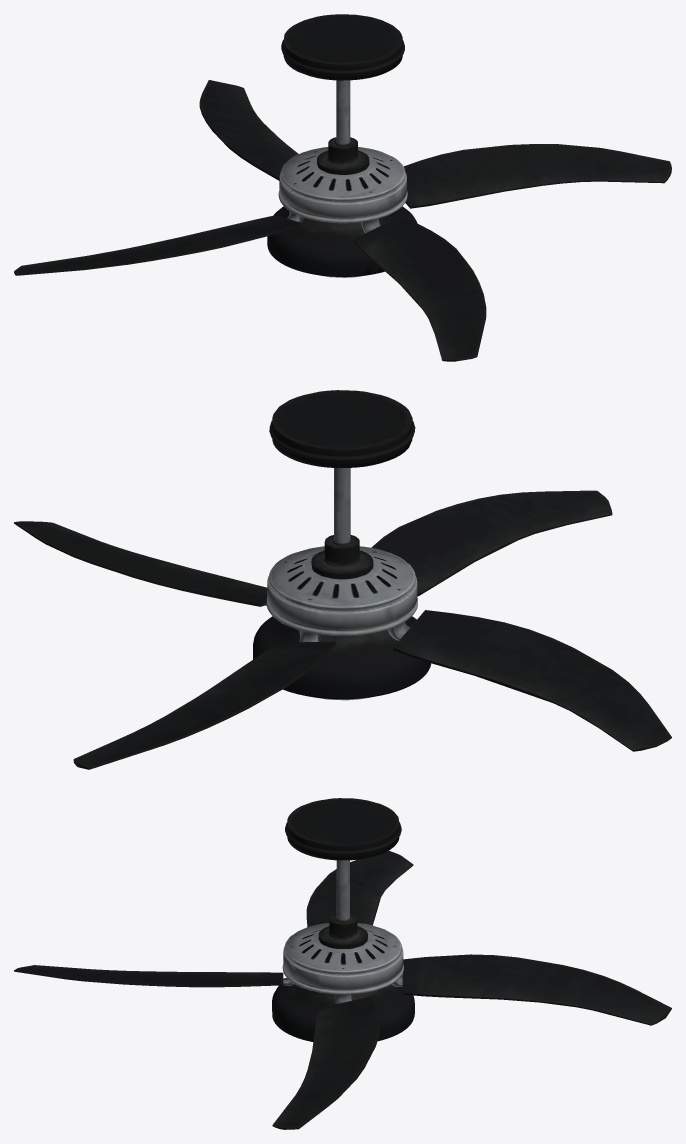
File: ceiling_fan.glb
3 renders of one model, top to bottom at view 1: azimuth 30°, elevation 25°; view 2: azimuth 150°, elevation 25°; view 3: azimuth 270°, elevation 25°, orthographic. The views are drawn at different scales.
Parts seen in each view (by area): view 1: ceiling_fan; view 2: ceiling_fan; view 3: ceiling_fan.
Boxes of the visible parts, bbox=[...] form: ceiling_fan: bbox=[14, 14, 671, 361]; ceiling_fan: bbox=[14, 390, 671, 769]; ceiling_fan: bbox=[14, 798, 671, 1129].
Size of the model in its own units: 1.46 by 0.5163 by 1.46.
1 material, 1 textured.
